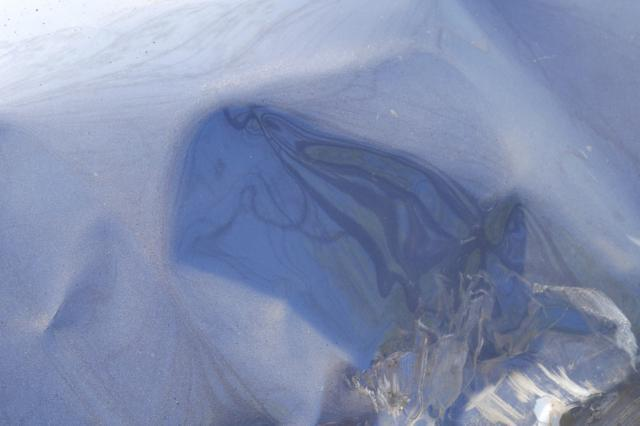Bonnet: (166, 76, 592, 426)
